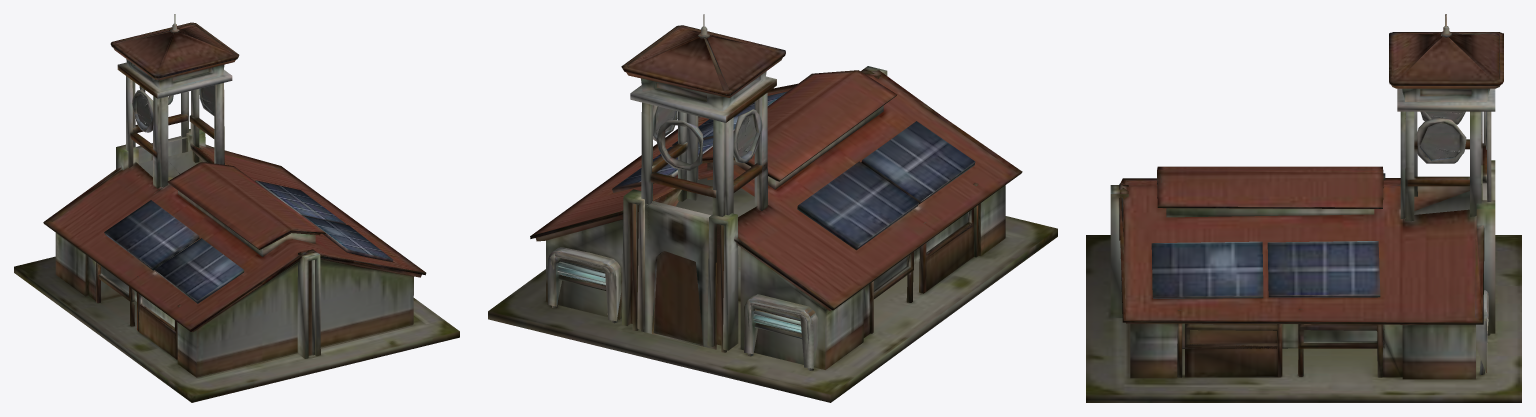
Rendered from lm_ben_thanh.glb.
3 renders of one model, left to right at view 1: azimuth 30°, elevation 25°; view 2: azimuth 150°, elevation 25°; view 3: azimuth 270°, elevation 25°, orthographic. The views are drawn at different scales.
Visible parts, largest first — view 1: Body; view 2: Body; view 3: Body.
Part boxes in pixels (box(x1,y1,x2,y2)): Body: box(14, 14, 459, 402); Body: box(488, 14, 1057, 402); Body: box(1086, 14, 1521, 402).
Bounding box in the file's own units: 30 × 26.76 × 34.45.
1 material, 1 textured.
